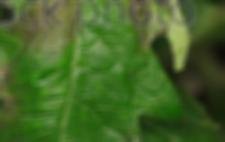Tomato leaf late blight: (0, 0, 221, 142)
